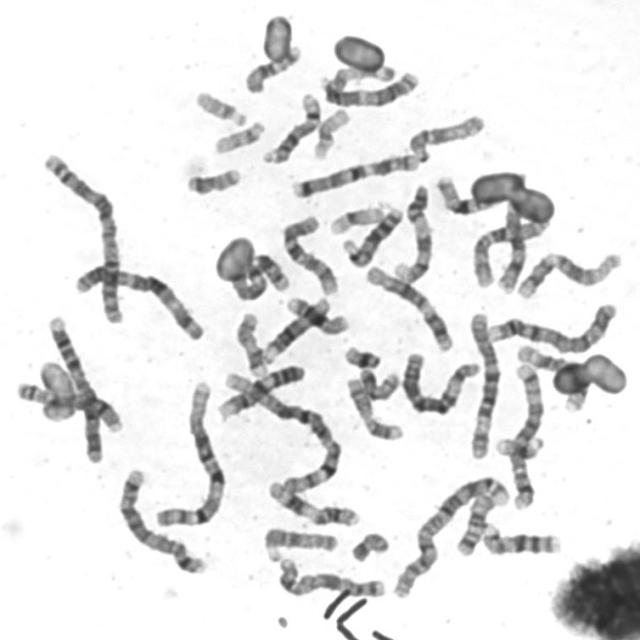A1: (218, 366, 345, 494), (151, 375, 229, 530)
A2: (38, 147, 128, 328), (388, 472, 511, 600)
A3: (71, 260, 207, 342), (318, 62, 422, 108)
B4: (43, 311, 108, 467), (482, 297, 621, 354)
B5: (114, 463, 210, 576), (506, 358, 547, 513)
C10: (468, 212, 552, 290), (278, 211, 341, 297)
C11: (262, 476, 362, 529), (495, 170, 529, 296)
C12: (362, 259, 456, 353), (512, 246, 624, 300)
C6: (462, 305, 502, 461), (398, 347, 483, 417)
C7: (288, 148, 421, 200), (227, 247, 292, 302)
C8: (11, 377, 126, 435), (513, 345, 590, 413)
C9: (214, 360, 308, 421), (390, 179, 434, 286)
D13: (339, 202, 405, 268), (483, 520, 564, 557)
D14: (259, 292, 333, 365), (258, 88, 323, 166)
D15: (404, 108, 488, 160), (260, 524, 341, 564)
E16: (281, 291, 351, 337), (436, 173, 504, 215)
E17: (342, 372, 407, 442), (232, 307, 270, 378)
E18: (241, 39, 303, 95), (452, 489, 498, 558)
F19: (309, 104, 353, 160), (325, 202, 389, 236)
F20: (182, 162, 245, 196), (355, 364, 402, 402)
G21: (496, 432, 545, 462), (339, 342, 383, 370)
G22: (191, 86, 250, 128), (210, 116, 267, 156)
X: (272, 553, 388, 601)
Y: (346, 527, 392, 564)
